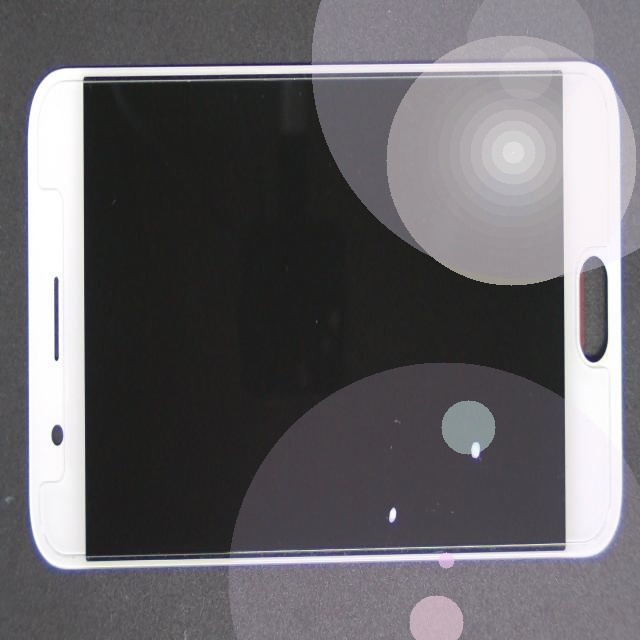stain: (255, 198, 640, 640), (208, 200, 574, 640)
